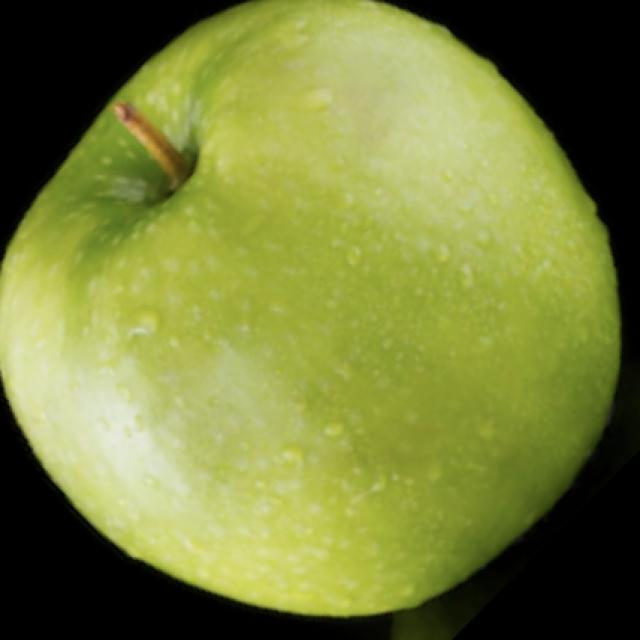Fresh Apple: (5, 10, 640, 618)
